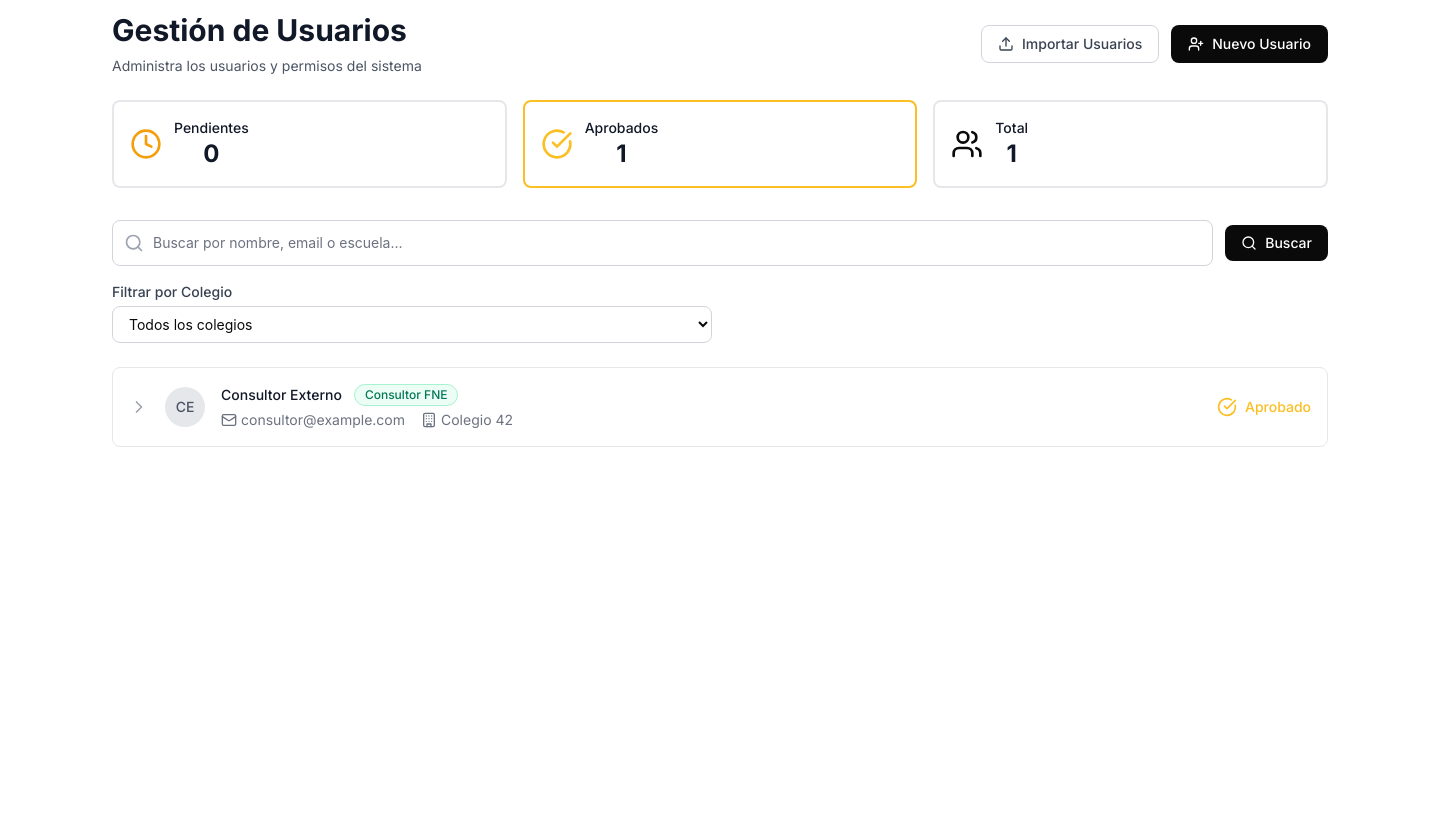
UnifiedUserManagement — ED-scoped props › hideAssign: consultor user actions omit Asignar Estudiantes
The image size is (1440, 822).
Click the heading "Consultor Externo": (281, 395) [221,385,342,405]
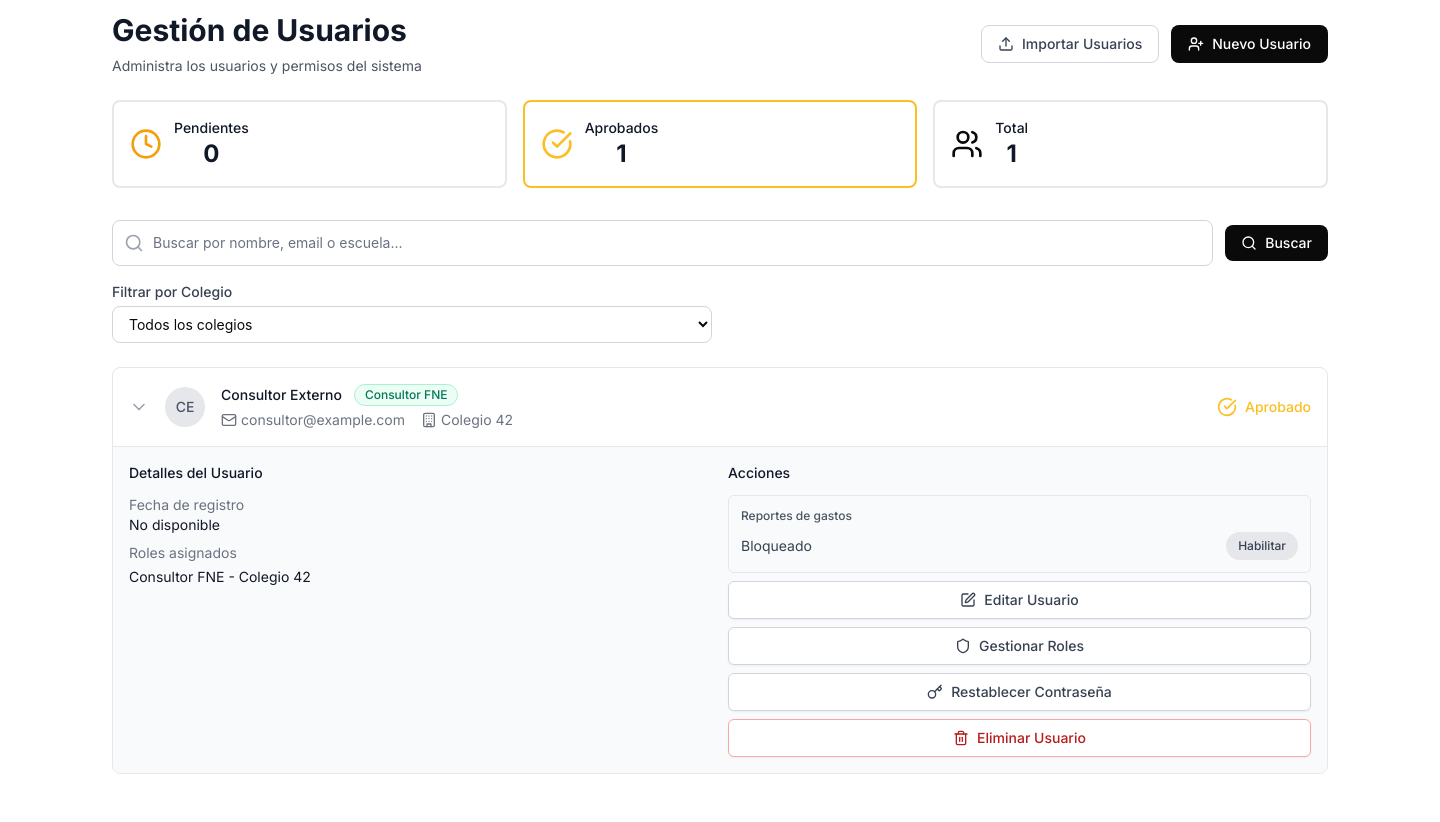
Check: the button "Editar Usuario" is shown, box [728,581,1311,619]
Check: the button "Gestionar Roles" is shown, box [728,627,1311,665]
